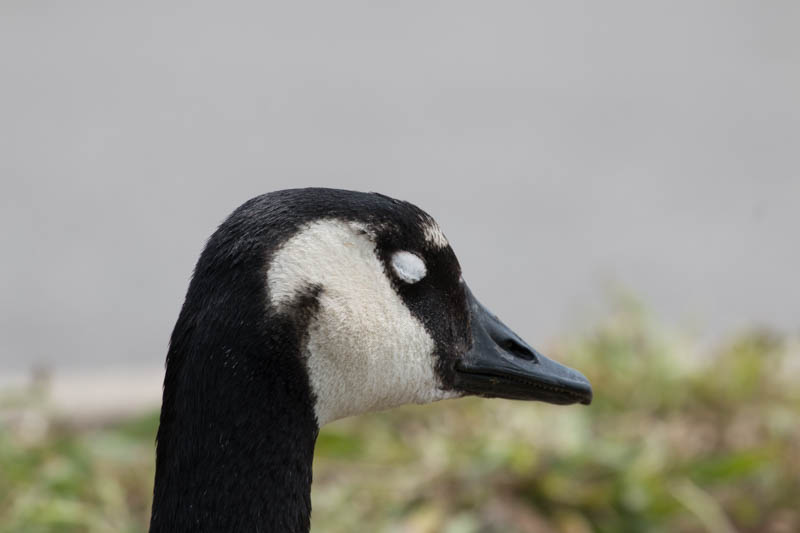goose-head: (159, 187, 593, 428)
